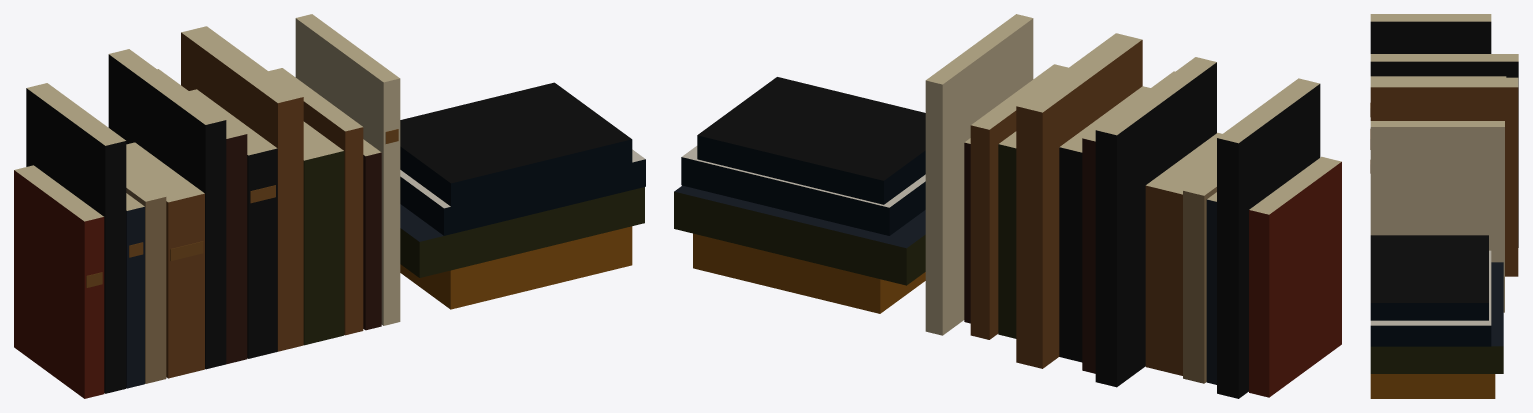
3 views of the same model, side by side, from view 1: azimuth 30°, elevation 25°; view 2: azimuth 150°, elevation 25°; view 3: azimuth 270°, elevation 25° (orthographic). The views are drawn at different scales.
Visible parts, largest first — view 1: books-mix-60; view 2: books-mix-60; view 3: books-mix-60.
Part boxes in pixels (x1=…): books-mix-60: x1=14, y1=14, x2=645, y2=398; books-mix-60: x1=674, y1=14, x2=1341, y2=398; books-mix-60: x1=1370, y1=14, x2=1518, y2=398.
Size of the model in its own units: 0.5903 by 0.2498 by 0.1774.
